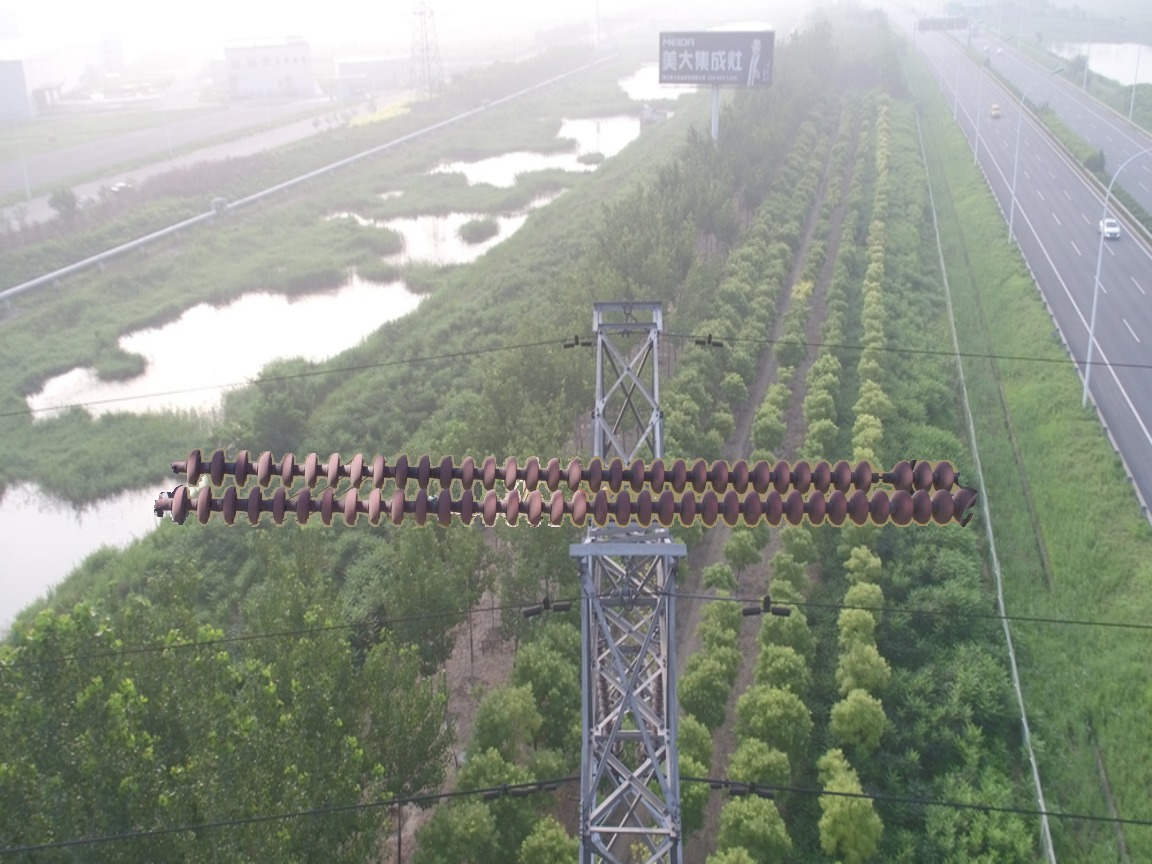defect: (850, 455, 917, 494)
